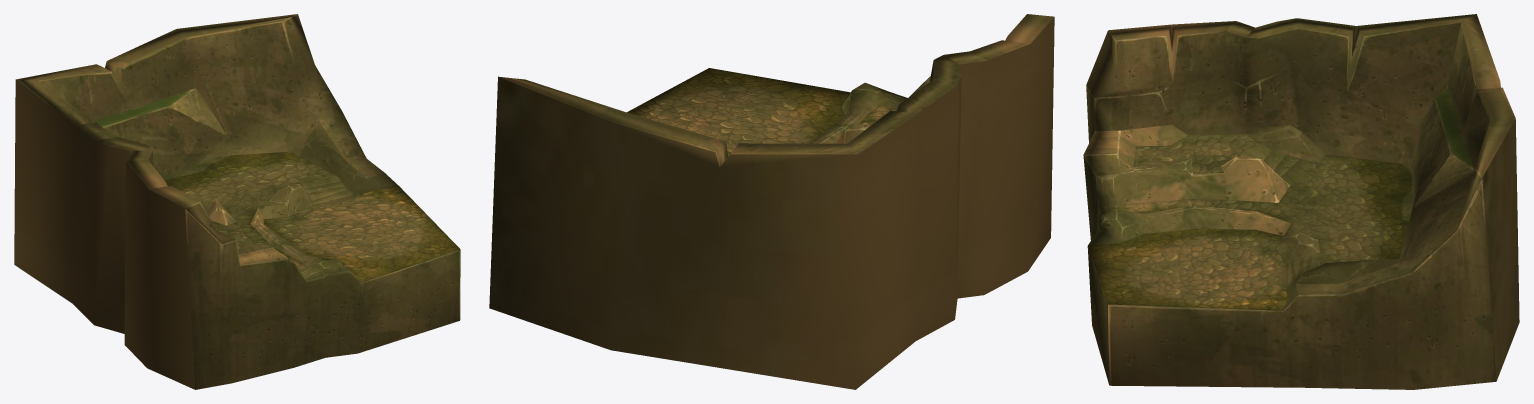
File: GameMap4.fbx
The picture shows the model from 3 angles, left to right: view 1: azimuth 30°, elevation 25°; view 2: azimuth 150°, elevation 25°; view 3: azimuth 270°, elevation 25°; orthographic projection. The views are drawn at different scales.
Visible parts, largest first — view 1: Plane001; view 2: Plane001; view 3: Plane001.
Boxes of the visible parts, x1,y1,x2,y2 form: Plane001: (14,14,460,389); Plane001: (489,14,1054,389); Plane001: (1083,14,1519,389).
Bounding box in the file's own units: 168 × 103 × 187.
